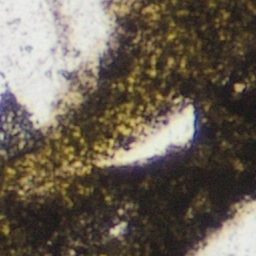cement_matrix: (0, 0, 255, 255), (94, 102, 196, 167), (66, 162, 85, 171), (111, 224, 123, 236)
gravel_crushed_stones: (0, 0, 130, 130), (95, 103, 195, 166), (190, 200, 255, 255), (67, 163, 84, 170), (112, 225, 122, 235)
